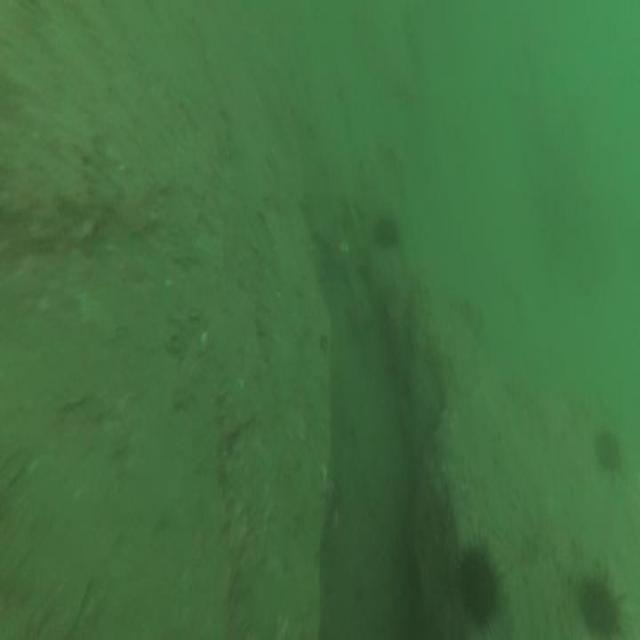echinus: (457, 532, 502, 634), (574, 562, 625, 640), (592, 420, 626, 480), (369, 205, 404, 256)
